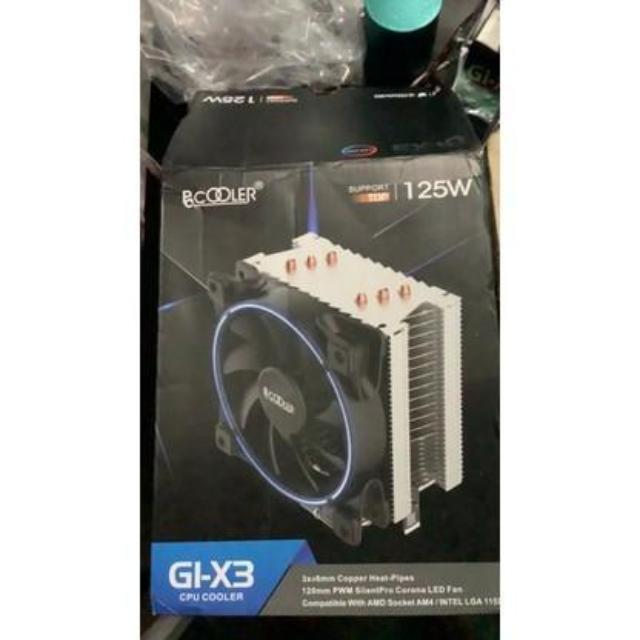CPU_Fan: (203, 242, 469, 538)
